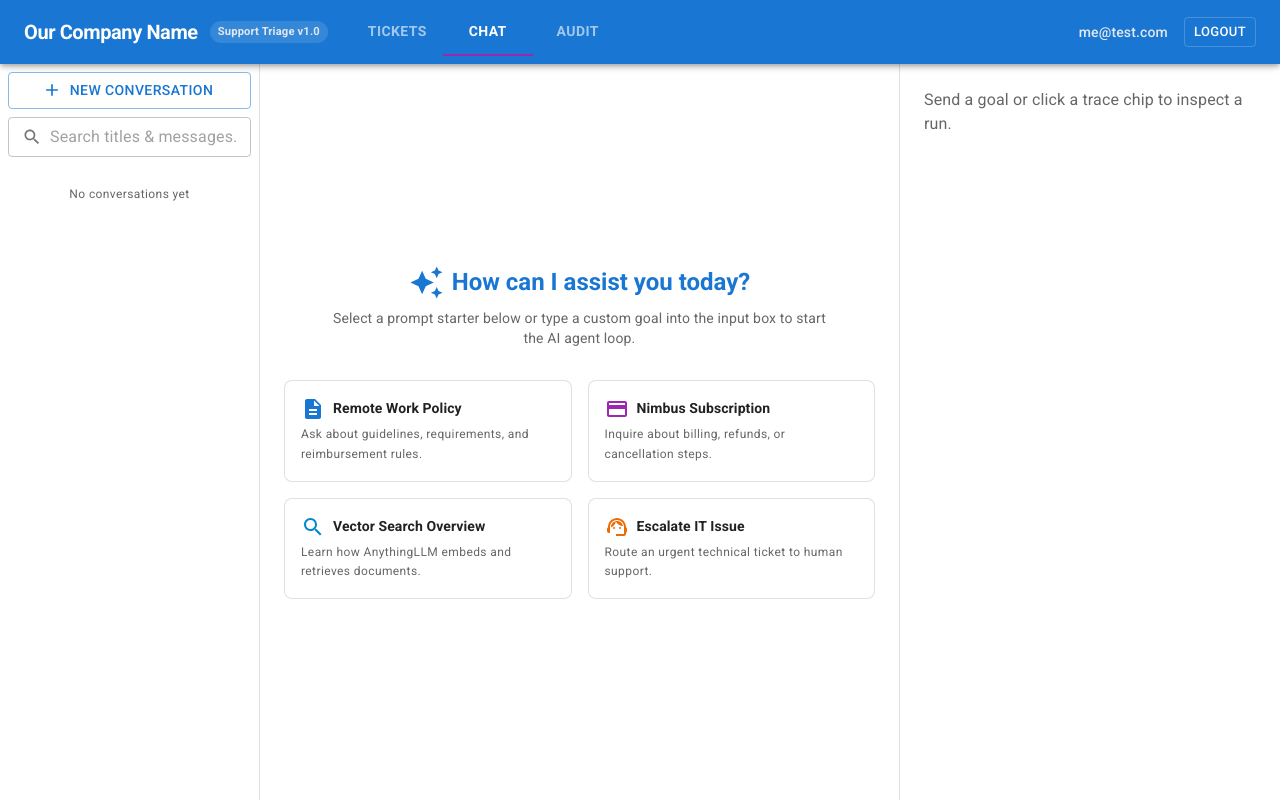
Test: logout returns to the auth screen
Click the button "Logout". click: (1220, 32)
box: [1184,17,1256,47]
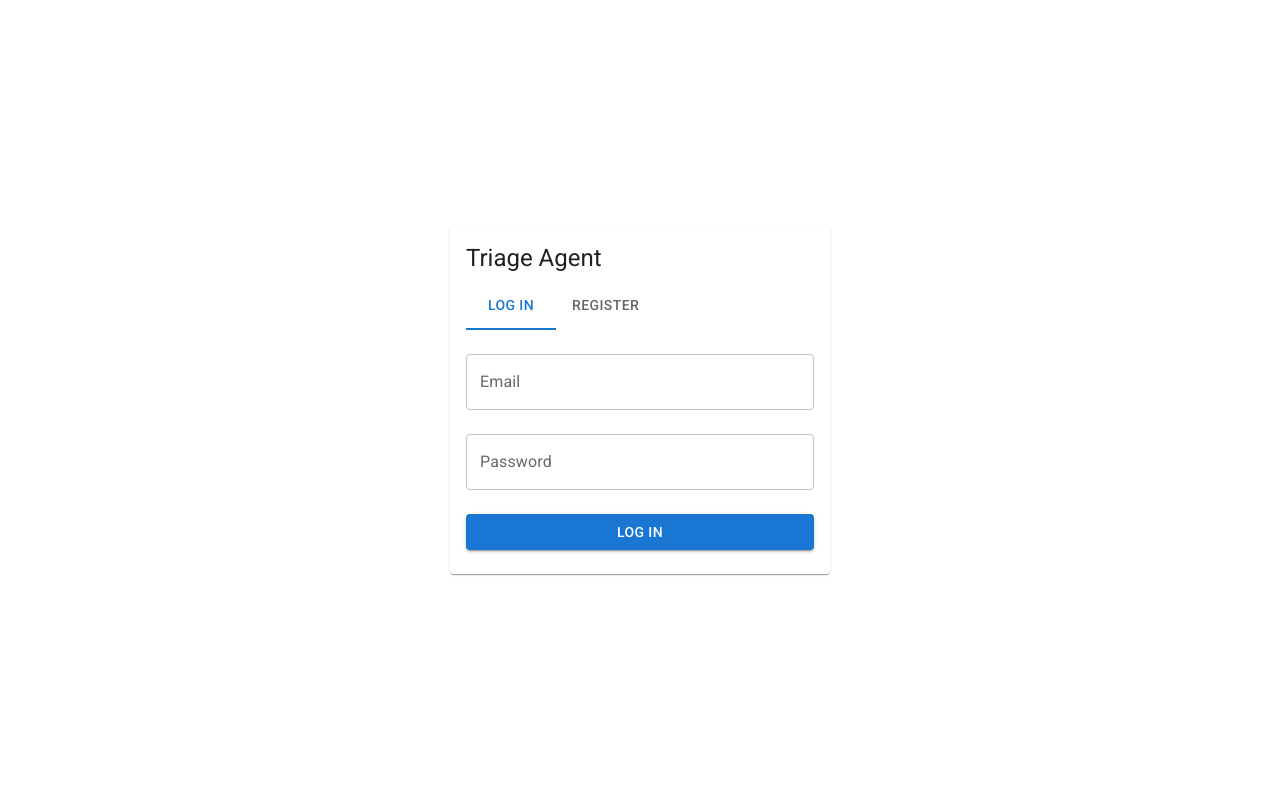
Now the tab "Log in" is shown, box [466,282,556,330]
